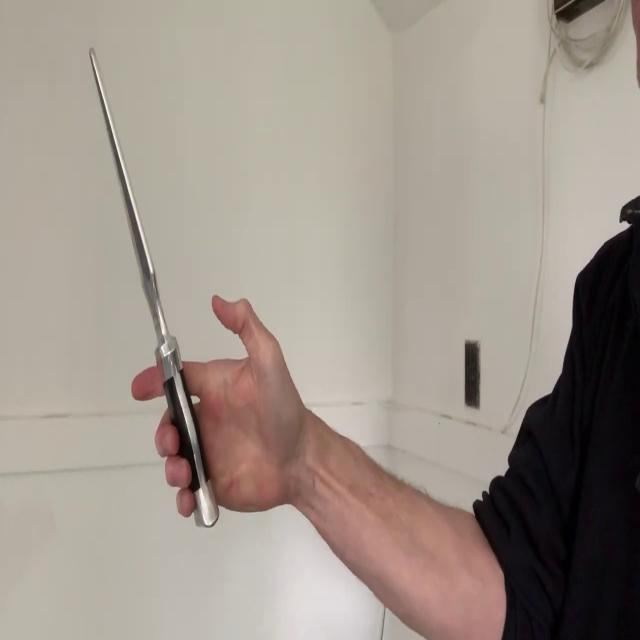Knife_Handle: (89, 47, 301, 528)
